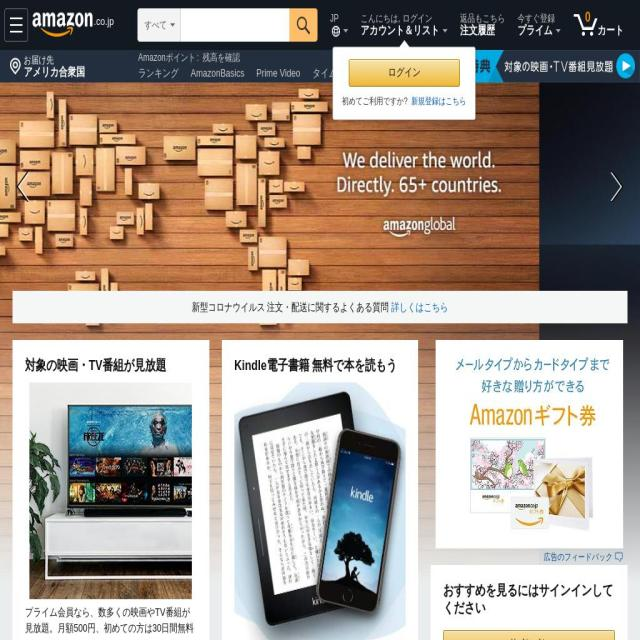button: (234, 382, 406, 640), (25, 383, 197, 599), (0, 82, 50, 291), (590, 82, 640, 291), (390, 50, 640, 82), (33, 4, 133, 46), (355, 5, 453, 47), (5, 8, 121, 38), (348, 59, 461, 87), (568, 5, 638, 47), (7, 51, 92, 83), (454, 5, 510, 47), (512, 5, 566, 47), (443, 630, 616, 640), (444, 631, 615, 640), (320, 5, 354, 47), (133, 132, 216, 148), (234, 98, 308, 115), (133, 165, 206, 182), (186, 65, 250, 82), (262, 132, 330, 148), (304, 165, 368, 182), (307, 65, 366, 82), (543, 551, 623, 563), (250, 65, 306, 82), (133, 65, 184, 82), (252, 165, 302, 182), (4, 8, 28, 42), (153, 98, 196, 115), (207, 165, 250, 182), (218, 132, 261, 148), (197, 98, 232, 115), (133, 98, 151, 115)
field: (180, 9, 290, 41), (288, 8, 318, 42)
heading: (443, 582, 616, 616), (25, 357, 197, 374), (234, 357, 406, 374)
iframe: (435, 340, 623, 548)
image: (234, 382, 406, 640), (29, 383, 192, 599), (390, 50, 640, 82), (33, 12, 93, 38), (574, 14, 598, 36), (8, 57, 22, 76), (10, 18, 22, 32), (331, 25, 340, 37), (614, 552, 623, 562)
link: (14, 165, 36, 208), (604, 165, 626, 208), (391, 301, 449, 313), (138, 52, 196, 63), (411, 96, 467, 106), (202, 52, 240, 63)
text: (25, 604, 197, 636), (349, 60, 460, 85), (192, 301, 390, 313), (360, 23, 440, 37), (24, 66, 92, 82), (361, 13, 438, 24), (544, 552, 614, 562), (460, 24, 501, 41), (342, 96, 409, 106), (144, 12, 167, 39), (460, 13, 511, 24), (518, 23, 552, 37), (518, 13, 560, 24), (24, 54, 61, 66), (598, 23, 624, 37), (296, 17, 310, 34), (94, 16, 113, 27), (329, 13, 339, 24), (197, 52, 202, 63)
